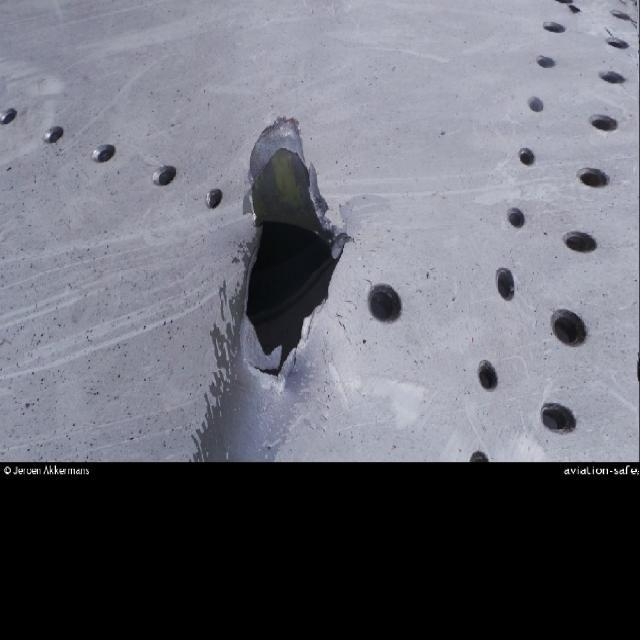crack: (237, 116, 359, 388)
